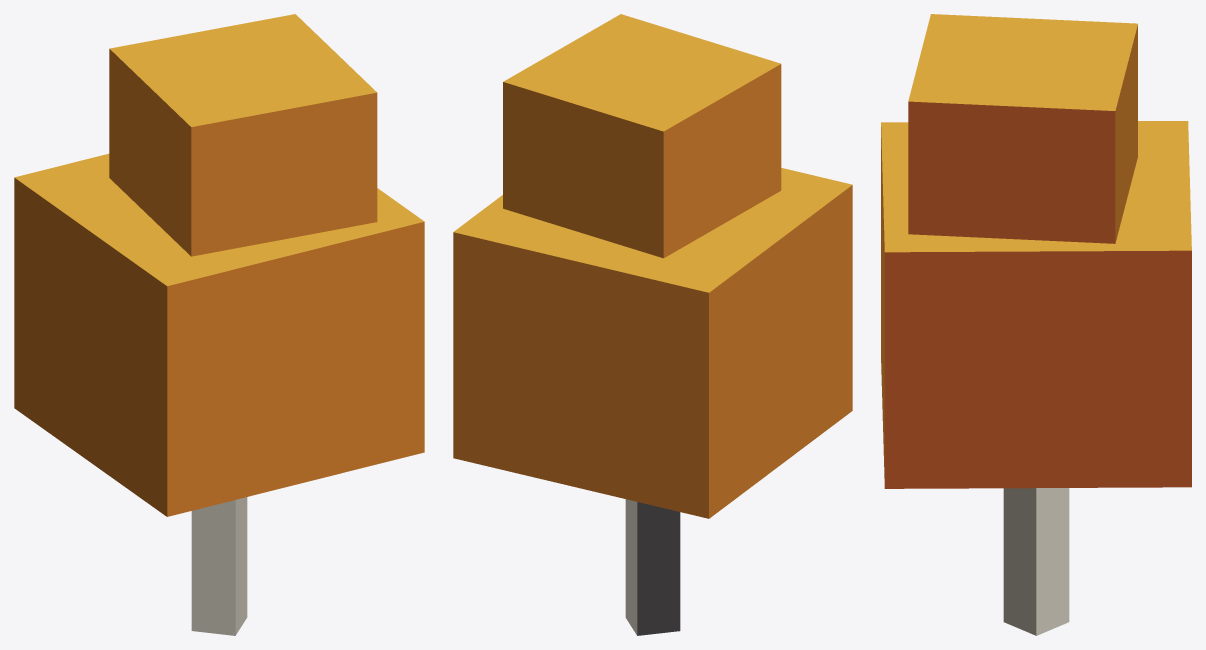
File: tree_blocks_fall.glb
The picture shows the model from 3 angles, left to right: view 1: azimuth 30°, elevation 25°; view 2: azimuth 150°, elevation 25°; view 3: azimuth 270°, elevation 25°; orthographic projection. The views are drawn at different scales.
Visible parts, largest first — view 1: tree_blocks_fall; view 2: tree_blocks_fall; view 3: tree_blocks_fall.
Part boxes in pixels (left/top/right/bottom): tree_blocks_fall: left=14, top=14, right=424, bottom=635; tree_blocks_fall: left=453, top=14, right=852, bottom=635; tree_blocks_fall: left=881, top=14, right=1191, bottom=635.
Bounding box in the file's own units: 0.5668 × 1.14 × 0.5668.
Materials: 1 (1 with a texture image).
